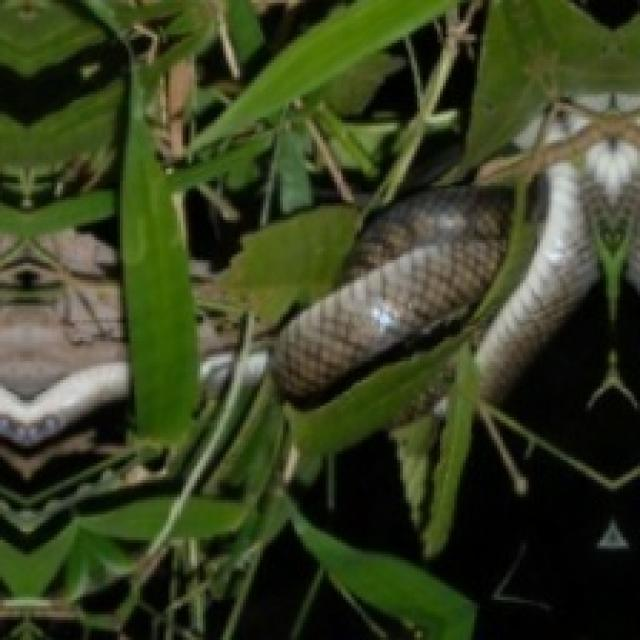smooth-scaled mountain rat snake: (271, 186, 509, 397), (477, 103, 637, 397), (0, 364, 128, 448)
